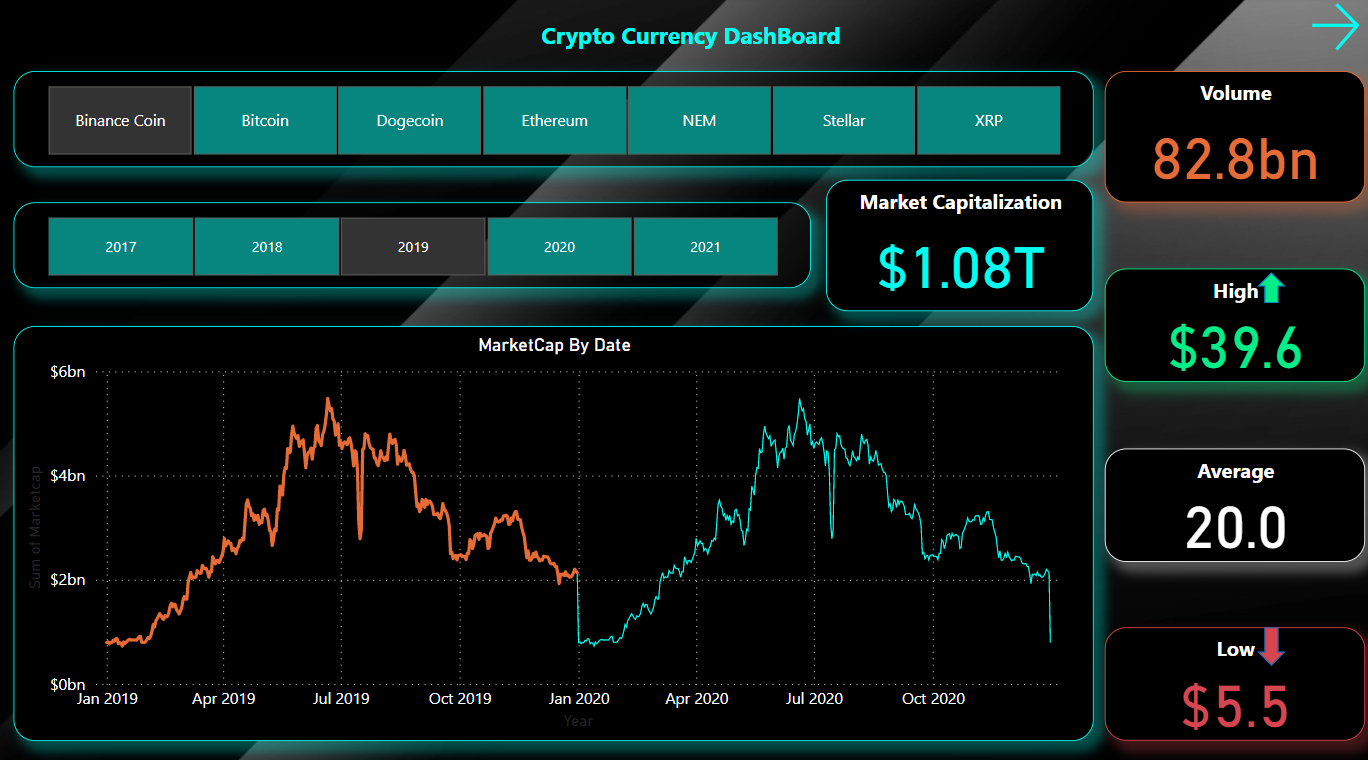

This screenshot's page, from the dashboard's own definition file:
{"tool":"powerbi","page":{"name":"Page 1","canvas":[1280,720],"ordinal":0},"visuals":[{"type":"slicer","fields":{"Values":["cryptodata.Name"]},"box":[16.3,69.8,1005.4,89.6],"z":0},{"type":"slicer","fields":{"Values":["cryptodata.Year"]},"box":[16.3,192,742.4,80.3],"z":1000},{"type":"lineChart","title":"MarketCap By Date","fields":{"Y":["Sum(cryptodata.Marketcap)"],"Category":["cryptodata.Date.Variation.Date Hierarchy.Year","cryptodata.Date.Variation.Date Hierarchy.Quarter","cryptodata.Date.Variation.Date Hierarchy.Month","cryptodata.Date.Variation.Date Hierarchy.Day"]},"box":[16.3,307.2,1005.4,386.3],"z":2000},{"type":"actionButton","box":[1218.3,0,55.9,58.2],"z":3000},{"type":"textbox","box":[502.7,16.5,307.6,38.5],"z":4000},{"type":"card","title":"Market Capitalization","fields":{"Values":["Sum(cryptodata.Marketcap)"]},"box":[772.7,171.1,249,122.2],"z":5000},{"type":"card","title":"Volume","fields":{"Values":["Sum(cryptodata.Volume)"]},"box":[1032.1,69.8,242,122.2],"z":6000},{"type":"card","title":"High","fields":{"Values":["Max(cryptodata.High)"]},"box":[1032.1,253.7,242,105.9],"z":7000},{"type":"card","title":"Average","fields":{"Values":["Avg(cryptodata.Average)"]},"box":[1032.1,420.7,242,105.9],"z":8000},{"type":"card","title":"Low","fields":{"Values":["Min(cryptodata.Low)"]},"box":[1032.1,587.6,242,105.9],"z":9000},{"type":"shape","box":[1174.1,257.2,26.8,29.1],"z":10000},{"type":"shape","box":[1174.1,587.6,26.8,36.1],"z":11000}]}

Visuals, with their boxes in screenshot pixels (x1, y1, x2, y2), scaled from the page's 1280x720 canvas onto the 1368x760 screenshot:
slicer - cryptodata.Name: Rect(17, 74, 1092, 168)
slicer - cryptodata.Year: Rect(17, 203, 811, 287)
"MarketCap By Date" lineChart: Rect(17, 324, 1092, 732)
actionButton: Rect(1302, 0, 1362, 61)
textbox: Rect(537, 17, 866, 58)
"Market Capitalization" card: Rect(826, 181, 1092, 310)
"Volume" card: Rect(1103, 74, 1362, 203)
"High" card: Rect(1103, 268, 1362, 380)
"Average" card: Rect(1103, 444, 1362, 556)
"Low" card: Rect(1103, 620, 1362, 732)
shape: Rect(1255, 271, 1283, 302)
shape: Rect(1255, 620, 1283, 658)
